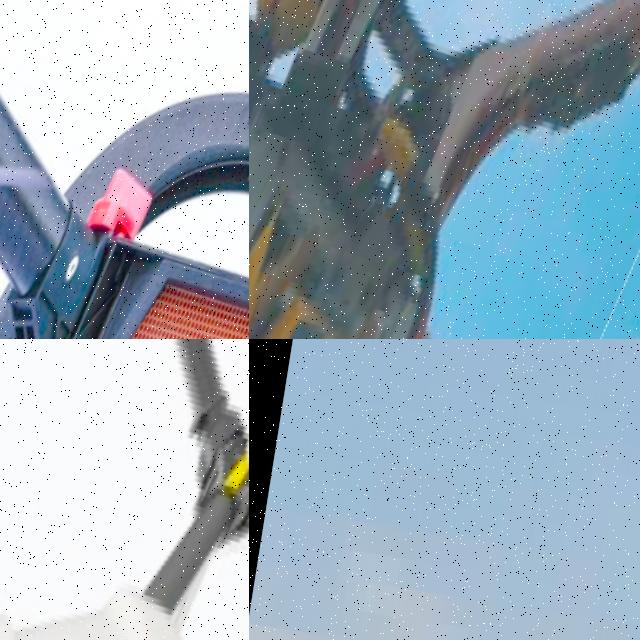drone: (249, 0, 640, 339), (0, 0, 249, 339), (0, 339, 249, 640)
